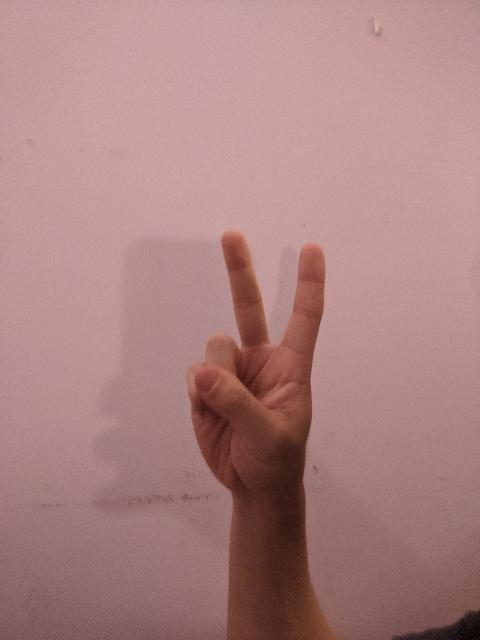V: (181, 225, 331, 495)
